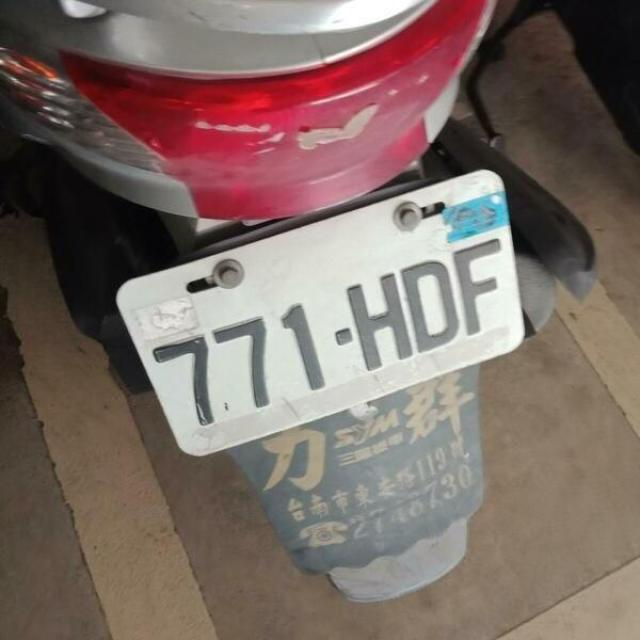W: (102, 162, 548, 483)
